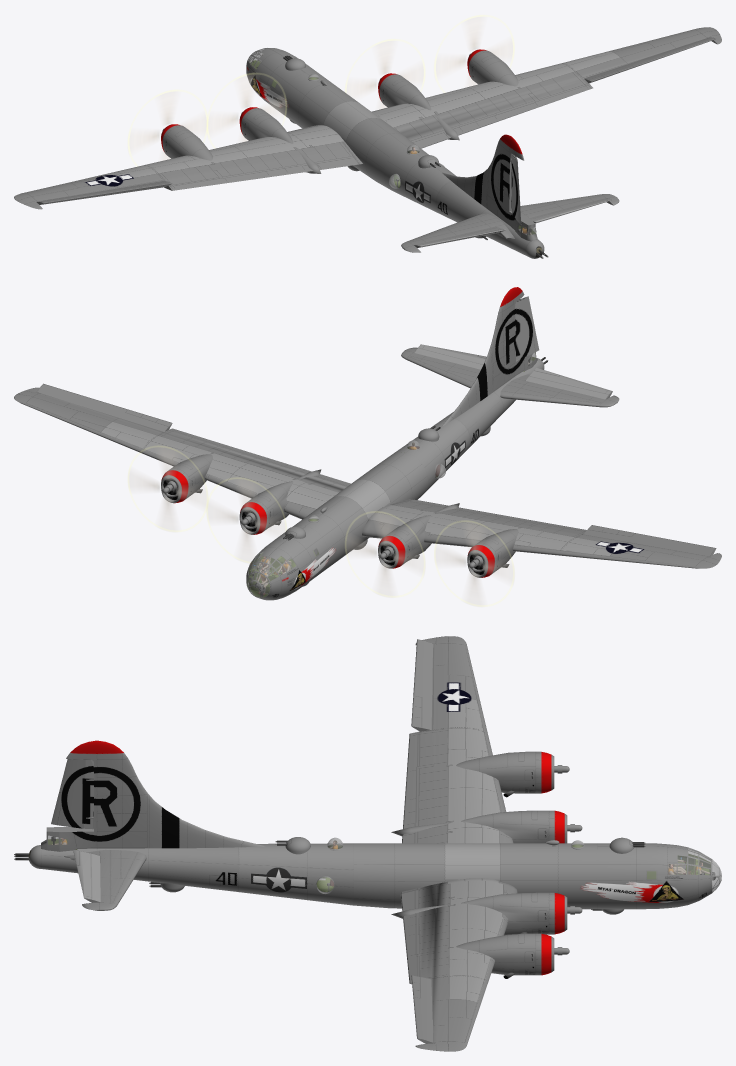
The model's file is b29_flyt_6bg_npa42w.glb.
The picture shows the model from 3 angles, top to bottom: view 1: azimuth 30°, elevation 25°; view 2: azimuth 150°, elevation 25°; view 3: azimuth 270°, elevation 25°; orthographic projection. The views are drawn at different scales.
Visible parts, largest first — view 1: WingR, WingL, fuse2, tail_vert, fuse3, tail_horz, fuse1, fuse4, prop2, prop1, engine4, prop3 (+9 smaller); view 2: WingR, WingL, fuse2, tail_vert, tail_horz, fuse1, fuse3, prop1, prop3, prop2, tail_elevator, prop4 (+9 smaller); view 3: WingL, fuse2, WingR, tail_vert, fuse1, fuse3, fuse4, engine4, engine2, engine1, engine3, tail_rudder (+6 smaller).
Part boxes in pixels (bbox=[...]): WingR: bbox=[371, 27, 721, 148]; WingL: bbox=[14, 125, 362, 209]; fuse2: bbox=[282, 72, 418, 189]; tail_vert: bbox=[442, 134, 537, 241]; fuse3: bbox=[383, 145, 456, 214]; tail_horz: bbox=[401, 194, 619, 252]; fuse1: bbox=[246, 48, 319, 117]; fuse4: bbox=[436, 181, 538, 256]; prop2: bbox=[434, 15, 514, 92]; prop1: bbox=[128, 90, 207, 165]; engine4: bbox=[378, 73, 459, 140]; prop3: bbox=[207, 73, 286, 147]; WingR: bbox=[14, 387, 350, 519]; WingL: bbox=[362, 499, 721, 568]; fuse2: bbox=[292, 452, 427, 570]; tail_vert: bbox=[442, 287, 537, 426]; tail_horz: bbox=[401, 347, 619, 407]; fuse1: bbox=[246, 525, 329, 600]; fuse3: bbox=[393, 417, 470, 492]; prop1: bbox=[434, 520, 514, 606]; prop3: bbox=[345, 511, 425, 597]; prop2: bbox=[128, 446, 207, 531]; tail_elevator: bbox=[414, 344, 612, 399]; prop4: bbox=[206, 477, 286, 563]; WingL: bbox=[402, 636, 513, 843]; fuse2: bbox=[353, 843, 597, 909]; WingR: bbox=[400, 878, 517, 1051]; tail_vert: bbox=[41, 740, 265, 851]; fuse1: bbox=[597, 843, 712, 909]; fuse3: bbox=[238, 843, 353, 905]; fuse4: bbox=[40, 845, 238, 891]; engine4: bbox=[391, 892, 567, 935]; engine2: bbox=[456, 933, 554, 975]; engine1: bbox=[456, 751, 554, 793]; engine3: bbox=[391, 810, 567, 843]; tail_rudder: bbox=[51, 759, 93, 829].
Size of the model in its own units: 141 by 28.65 by 102.
41 materials, 30 textured.
